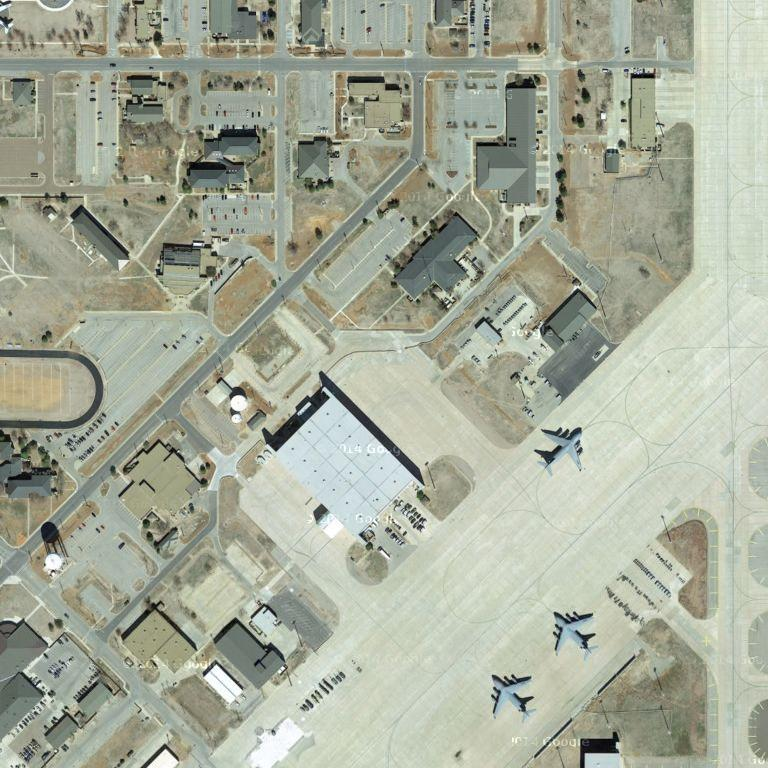C-17: (536, 427, 590, 475), (550, 610, 601, 660), (488, 672, 538, 723)
